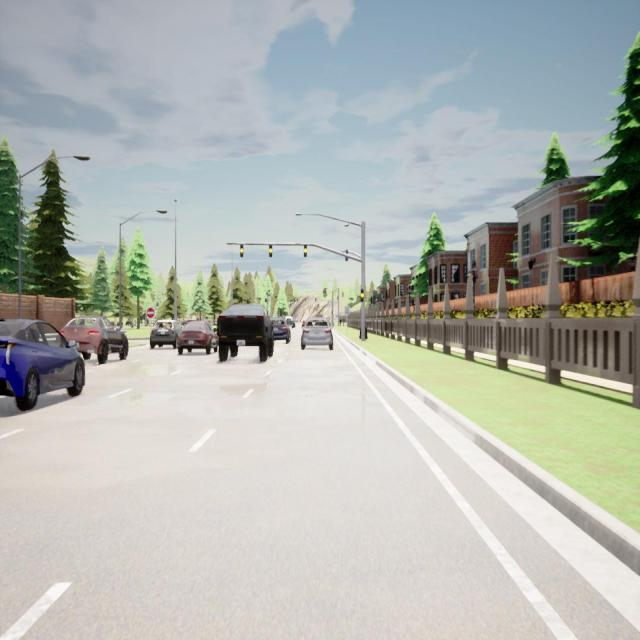Pedestrian: (339, 317, 342, 326), (342, 317, 345, 326)
Traffic_Signs: (146, 307, 154, 319)
Vehicle: (0, 319, 86, 411), (60, 314, 129, 364), (217, 304, 273, 362), (178, 321, 218, 355), (300, 318, 334, 350), (150, 320, 180, 349), (271, 319, 291, 344), (285, 316, 295, 328)
traffic_light: (360, 288, 364, 302), (240, 244, 243, 258), (269, 244, 272, 257), (345, 250, 348, 261), (304, 245, 306, 257)
